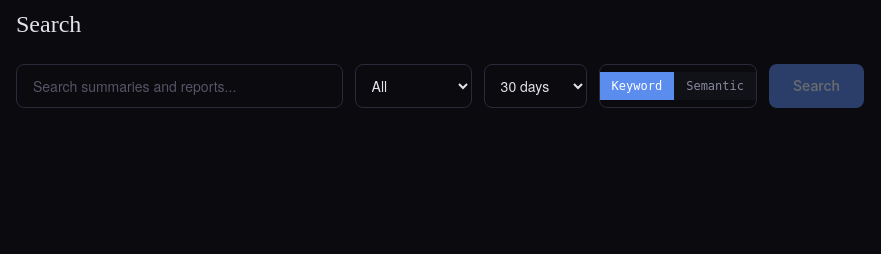
Test case: Search › renders a narrative shift preview ahead of unusual activity and macro alerts on report hits when no higher-priority preview is present
Type "narrative shift" into the field with placeholder "Search summaries and reports...".
click(179, 86); type("narrative shift")  # box [16, 64, 343, 108]
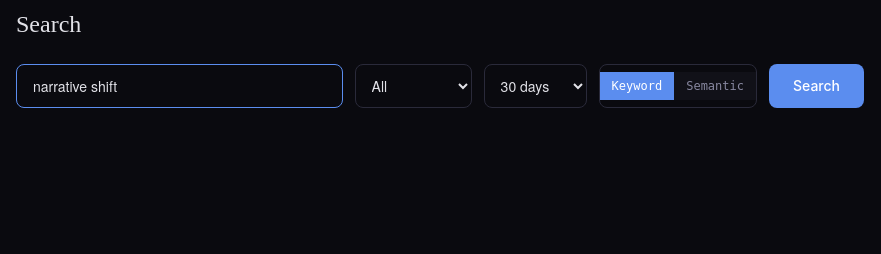
Click the button "Search".
click(816, 86)  # box [769, 64, 864, 108]
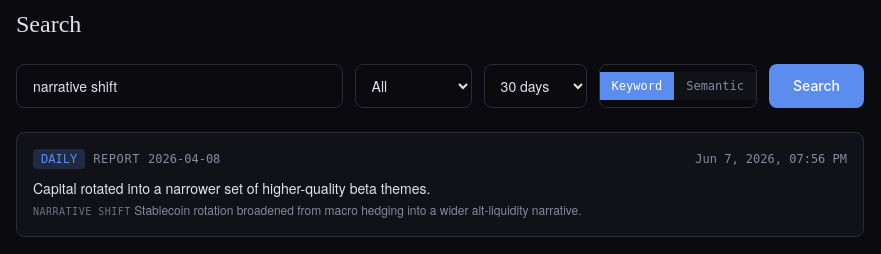
Check: the text "Narrative Shift" is shown, box [33, 206, 131, 217]
Check: the text "Stablecoin rotation broadened from macro hedging into a wider alt-liquidity narrative." is shown, box [134, 201, 582, 218]
